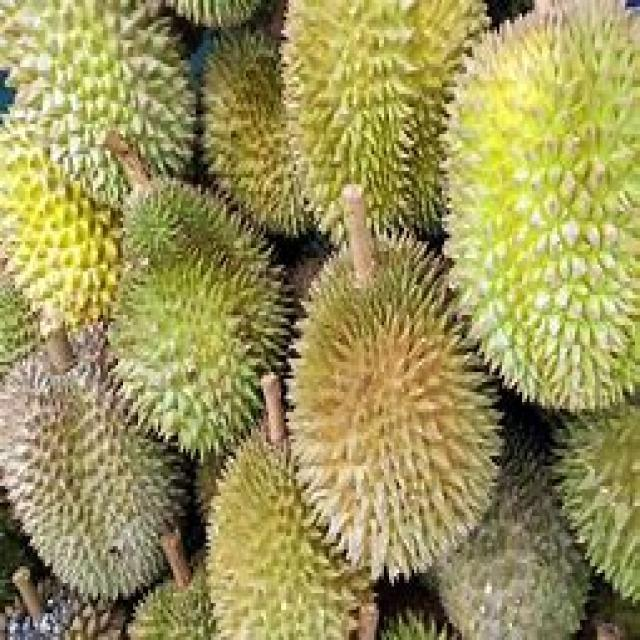immature: (436, 0, 640, 412), (105, 176, 297, 465), (2, 327, 192, 605)
mature: (284, 228, 507, 587)
